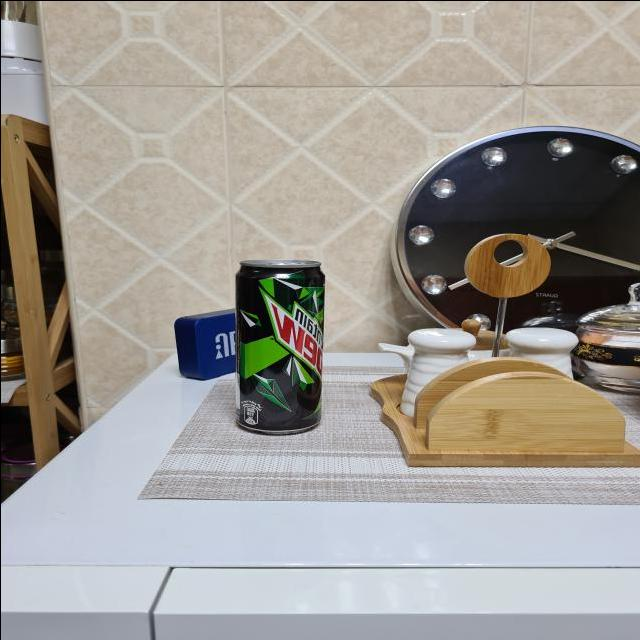can: (234, 256, 324, 436)
